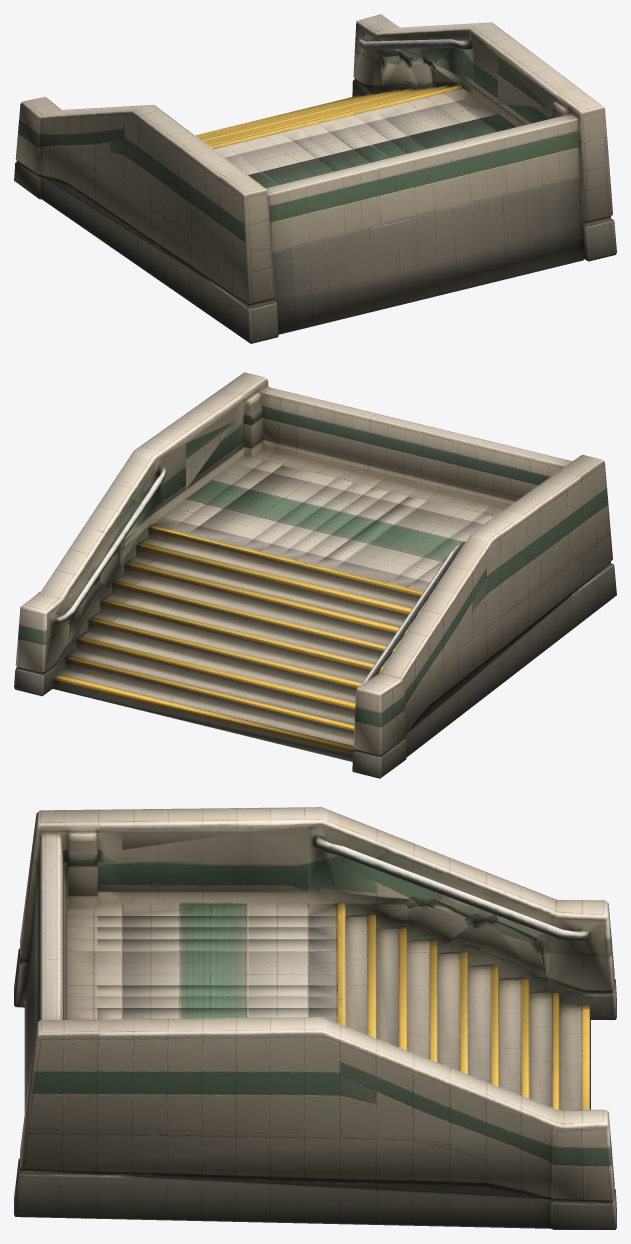
File: stairs_up.fbx
3 views of the same model, one above another, from view 1: azimuth 30°, elevation 25°; view 2: azimuth 150°, elevation 25°; view 3: azimuth 270°, elevation 25° (orthographic). The views are drawn at different scales.
Parts seen in each view (by area): view 1: stairs_up; view 2: stairs_up; view 3: stairs_up.
Boxes of the visible parts, x1,y1,x2,y2 form: stairs_up: (14,14,616,343); stairs_up: (14,372,616,778); stairs_up: (14,807,616,1229).
Bounding box in the file's own units: 3.59 × 1.45 × 4.
